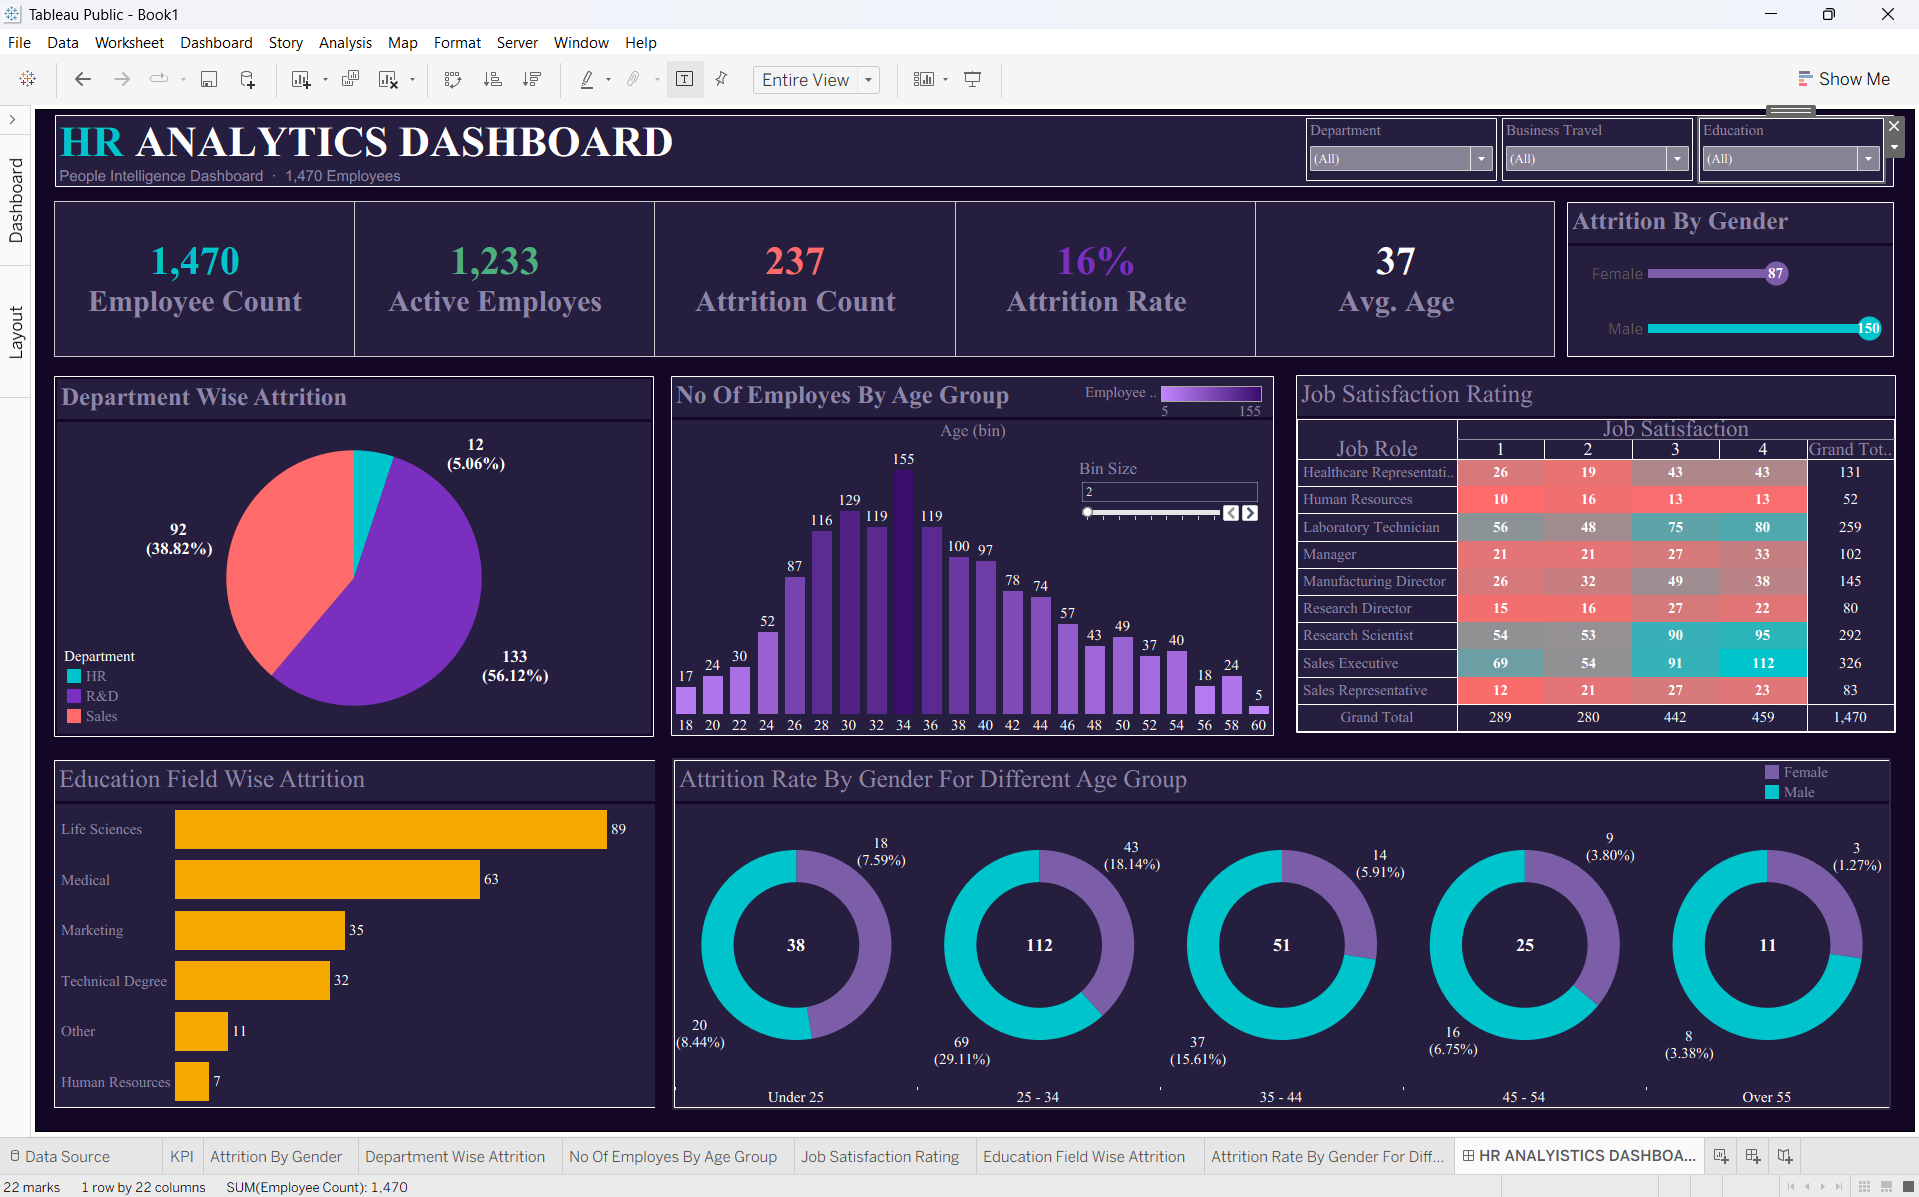

Layout of this report page (visuals, bound fields, positions):
{"tool":"tableau","page":{"name":"HR ANALYISTICS DASHBOARD","canvas":[1000,1000],"units":"permille","ordinal":0},"visuals":[{"type":"blank","box":[0,0,1000,1000]},{"type":"text","box":[12.7,9.7,974.1,69.8]},{"type":"filter","title":"No Of Employes By Age Group","param":"[federated.1il7hpu0eamjjy17gzdtj01fiurs].[none:Department:nk]","box":[675.3,12.6,101.4,61.1]},{"type":"filter","title":"No Of Employes By Age Group","param":"[federated.1il7hpu0eamjjy17gzdtj01fiurs].[none:Business Travel:nk]","box":[779.1,12.6,101.4,61.1]},{"type":"filter","title":"No Of Employes By Age Group","param":"[federated.1il7hpu0eamjjy17gzdtj01fiurs].[none:Education:nk]","box":[883.5,12.6,97.8,62.1]},{"type":"worksheet","title":"KPI","mark":"Automatic","cols":["Employee Count","Calculation_2192701812588546","Calculation_2192701809946624","Calculation_2192701811638273","Age"],"box":[12.1,93.1,795.4,151.3]},{"type":"worksheet","title":"Attrition By Gender","mark":"Automatic","rows":["Gender"],"cols":["Calculation_2192701809946624","Calculation_2192701809946624"],"box":[813.5,94.1,173.2,150.3]},{"type":"worksheet","title":"Job Satisfaction Rating","mark":"Square","rows":["Job Role"],"cols":["Job Satisfaction"],"box":[669.9,261.9,318,347.2]},{"type":"worksheet","title":"Department Wise Attrition","mark":"Pie","box":[12.1,262.9,318,350.2]},{"type":"worksheet","title":"No Of Employes By Age Group","mark":"Automatic","rows":["Employee Count"],"cols":["Age (bin)"],"box":[339.2,262.9,319.2,349.2]},{"type":"legend","title":"No Of Employes By Age Group","param":"[federated.1il7hpu0eamjjy17gzdtj01fiurs].[sum:Employee Count:qk]","box":[558.2,268.7,96,34.9]},{"type":"parameter","param":"[Parameters].[Parameter 1]","box":[555.2,343.4,96.6,68.9]},{"type":"legend","title":"Department Wise Attrition","param":"[federated.1il7hpu0eamjjy17gzdtj01fiurs].[none:Department:nk]","box":[17.5,526.7,79.1,75.7]},{"type":"worksheet","title":"Education Field Wise Attrition","mark":"Automatic","rows":["Education Field"],"cols":["Calculation_2192701809946624"],"box":[12.1,635.3,318.7,337.5]},{"type":"worksheet","title":"Attrition Rate By Gender For Different Age Group","mark":"Pie","rows":["Calculation_1450531922092032","Calculation_1450531922132994"],"cols":["CF_age band"],"box":[340.4,635.3,643.9,337.5]},{"type":"legend","title":"Attrition Rate By Gender For Different Age Group","param":"[federated.1il7hpu0eamjjy17gzdtj01fiurs].[none:Gender:nk]","box":[916.7,637.2,57.9,39.8]}]}

Visuals, with their boxes on the dashboard's canvas, which has no fixed pixel size, in thousandths of its width and height (x1, y1, x2, y2). These are canvas units, not pixel positions in the 1919x1197 screenshot, which may show the page scaled, cropped or inside an application window:
blank: x1=0, y1=0, x2=1000, y2=1000
text: x1=13, y1=10, x2=987, y2=80
"No Of Employes By Age Group" filter: x1=675, y1=13, x2=777, y2=74
"No Of Employes By Age Group" filter: x1=779, y1=13, x2=880, y2=74
"No Of Employes By Age Group" filter: x1=884, y1=13, x2=981, y2=75
"KPI" worksheet: x1=12, y1=93, x2=808, y2=244
"Attrition By Gender" worksheet: x1=814, y1=94, x2=987, y2=244
"Job Satisfaction Rating" worksheet (Square marks): x1=670, y1=262, x2=988, y2=609
"Department Wise Attrition" worksheet (Pie marks): x1=12, y1=263, x2=330, y2=613
"No Of Employes By Age Group" worksheet: x1=339, y1=263, x2=658, y2=612
"No Of Employes By Age Group" legend: x1=558, y1=269, x2=654, y2=304
parameter: x1=555, y1=343, x2=652, y2=412
"Department Wise Attrition" legend: x1=18, y1=527, x2=97, y2=602
"Education Field Wise Attrition" worksheet: x1=12, y1=635, x2=331, y2=973
"Attrition Rate By Gender For Different Age Group" worksheet (Pie marks): x1=340, y1=635, x2=984, y2=973
"Attrition Rate By Gender For Different Age Group" legend: x1=917, y1=637, x2=975, y2=677
